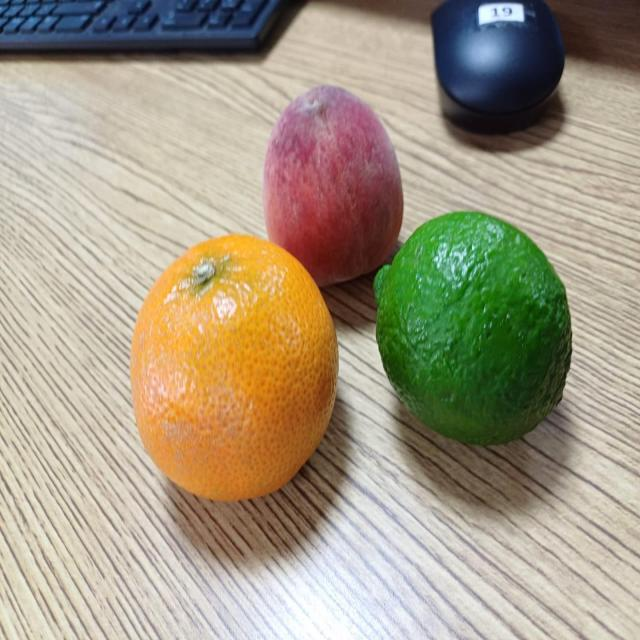Jeruk Mandarin: (122, 227, 349, 510)
Lemon: (372, 202, 578, 464)
Persik: (258, 78, 409, 294)
